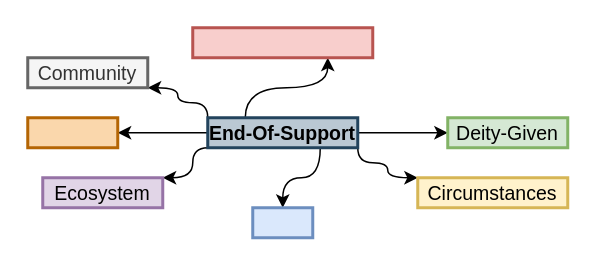
This 594x264 diagram has some shape labels left out. Here are the shapes that lost their labels. From the top down, the centre of each, then its label:
the point at 282,42: Interconnectedness
the point at 72,132: Support
the point at 282,222: Effort
